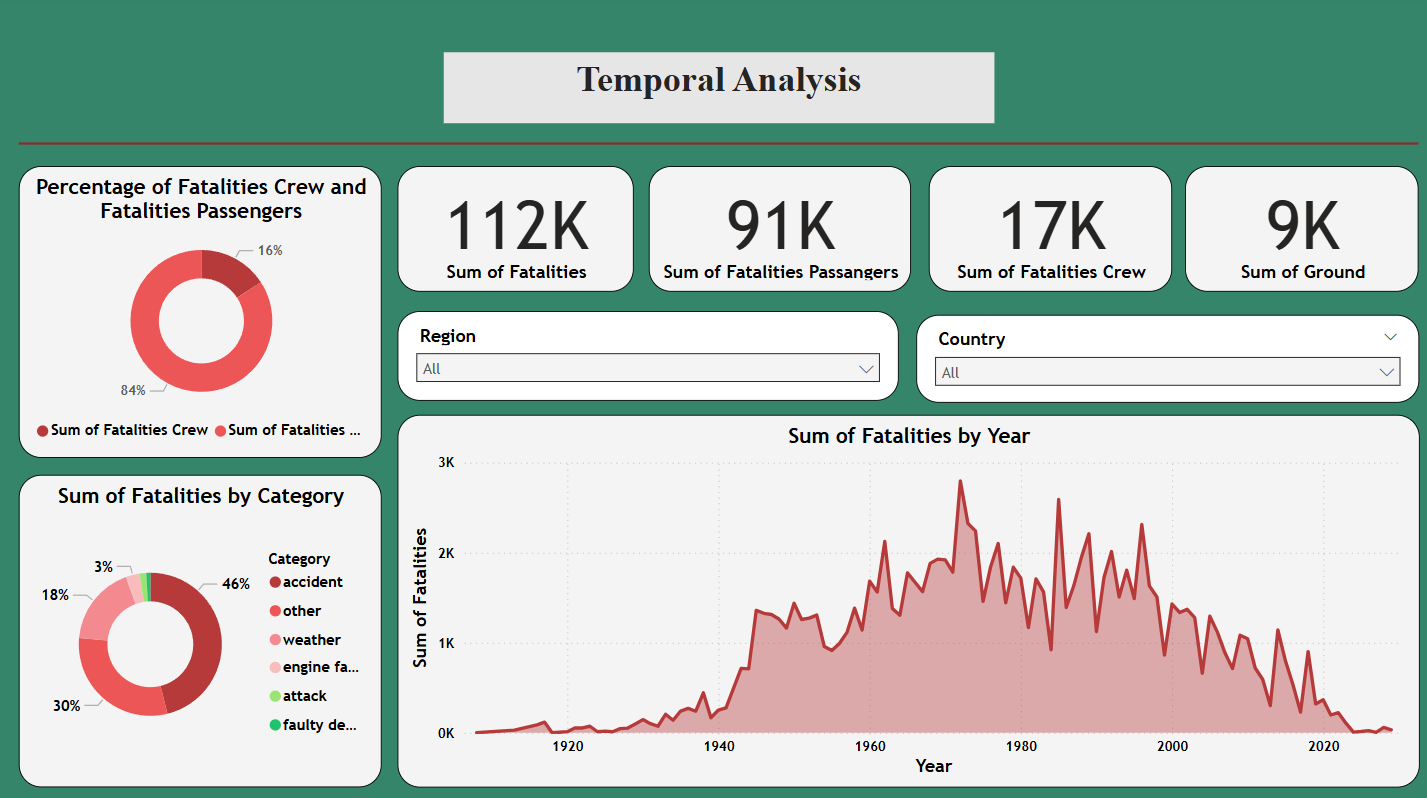

What the dashboard file says about the page in this screenshot:
{"tool":"powerbi","page":{"name":"Temporal","canvas":[1280,720],"ordinal":0},"visuals":[{"type":"donutChart","title":"Percentage of Fatalities Crew and Fatalities Passengers","fields":{"Y":["Sum(Sheet1.Fatalities Crew)","Sum(Sheet1.Fatalities Passangers)"]},"box":[21.7,151.7,323.3,260],"z":0},{"type":"stackedAreaChart","fields":{"Category":["Sheet1.Date.Variation.Date Hierarchy.Year"],"Y":["Sum(Sheet1.Fatalities)"]},"box":[358.3,373.3,910,331.7],"z":1000},{"type":"donutChart","fields":{"Y":["Sum(Sheet1.Fatalities)"],"Category":["Sheet1.Category"]},"box":[21.7,426.7,323.3,278.3],"z":2000},{"type":"slicer","fields":{"Values":["Sheet1.Country"]},"box":[820,283.3,448.3,78.3],"z":3000},{"type":"slicer","fields":{"Values":["Sheet1.Region"]},"box":[358.3,280,446.7,80],"z":4000},{"type":"shape","box":[21.7,125,1246.7,13.3],"z":5000},{"type":"textbox","box":[400,50,490,63.3],"z":6000},{"type":"card","fields":{"Values":["Sum(Sheet1.Fatalities)"]},"box":[358.3,151.7,210,111.7],"z":7000},{"type":"card","fields":{"Values":["Sum(Sheet1.Fatalities Passangers)"]},"box":[581.7,151.7,233.3,111.7],"z":8000},{"type":"card","fields":{"Values":["Sum(Sheet1.Fatalities Crew)"]},"box":[831.7,151.7,216.7,111.7],"z":9000},{"type":"card","fields":{"Values":["Sum(Sheet1.Ground)"]},"box":[1060,151.7,208.3,111.7],"z":10000}]}

Visuals, with their boxes in screenshot pixels (x1, y1, x2, y2), scaled from the page's 1280x720 canvas onto the 1427x798 screenshot:
"Percentage of Fatalities Crew and Fatalities Passengers" donutChart: 24/168/385/456
stackedAreaChart - Sheet1.Date.Variation.Date Hierarchy.Year x Sum(Sheet1.Fatalities): 399/414/1414/781
donutChart - Sum(Sheet1.Fatalities) x Sheet1.Category: 24/473/385/781
slicer - Sheet1.Country: 914/314/1414/401
slicer - Sheet1.Region: 399/310/897/399
shape: 24/139/1414/153
textbox: 446/55/992/126
card - Sum(Sheet1.Fatalities): 399/168/634/292
card - Sum(Sheet1.Fatalities Passangers): 649/168/909/292
card - Sum(Sheet1.Fatalities Crew): 927/168/1169/292
card - Sum(Sheet1.Ground): 1182/168/1414/292
